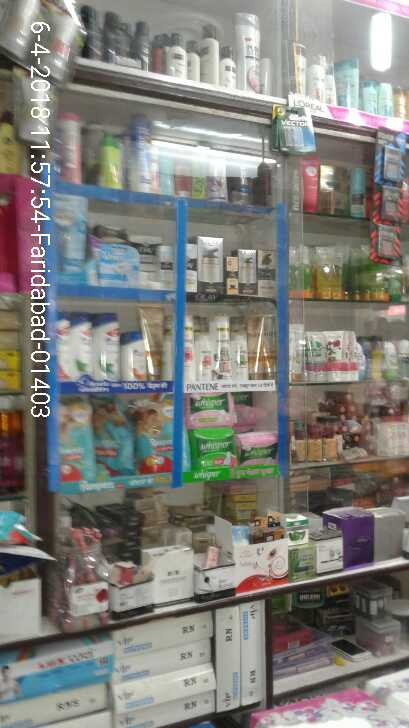gillete: (277, 106, 316, 153)
venus: (54, 197, 86, 282), (96, 244, 138, 287)
